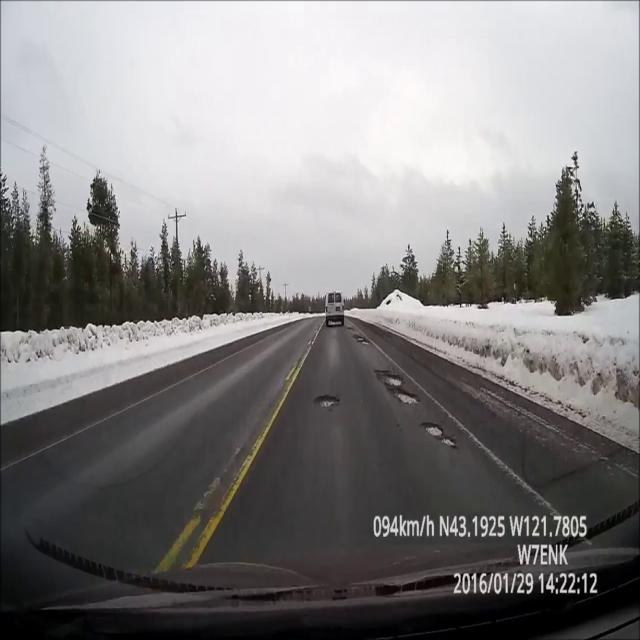Pothole: (423, 422, 459, 448), (376, 367, 404, 388), (389, 389, 424, 404), (314, 392, 342, 410), (354, 332, 370, 345), (347, 327, 354, 330)
